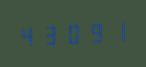four: (18, 22, 39, 48)
nine: (84, 19, 105, 45)
one: (106, 18, 127, 44)
three: (40, 21, 61, 47)
zero: (62, 20, 83, 46)
